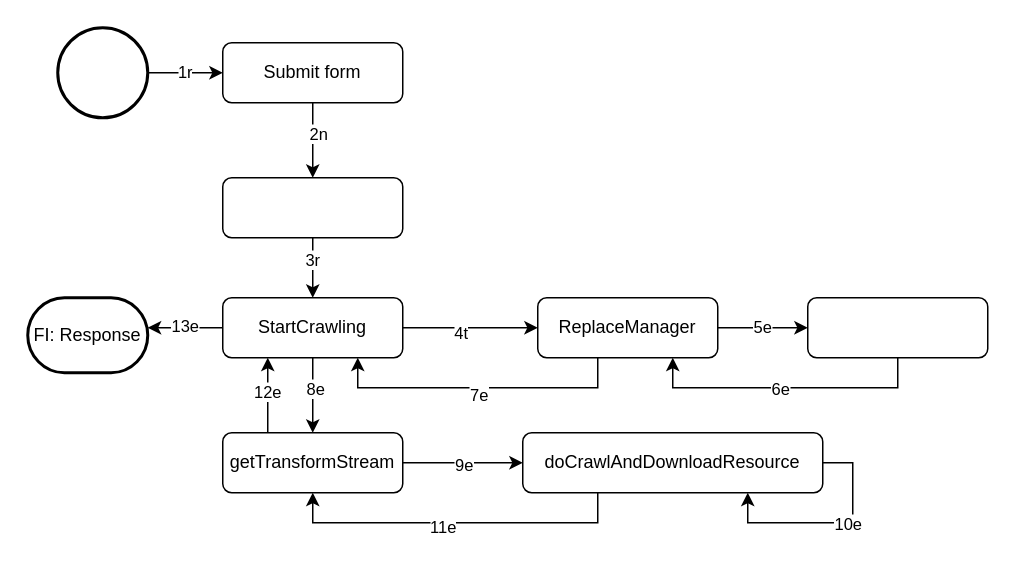
Some shapes in this 1014 by 561 pixel diagram are drawn without their labels. Each missing label, with the centre of its shape:
"/crawler" goes at pixel 312 207.
"Inici" goes at pixel 102 72.
"URLManager" goes at pixel 897 327.
